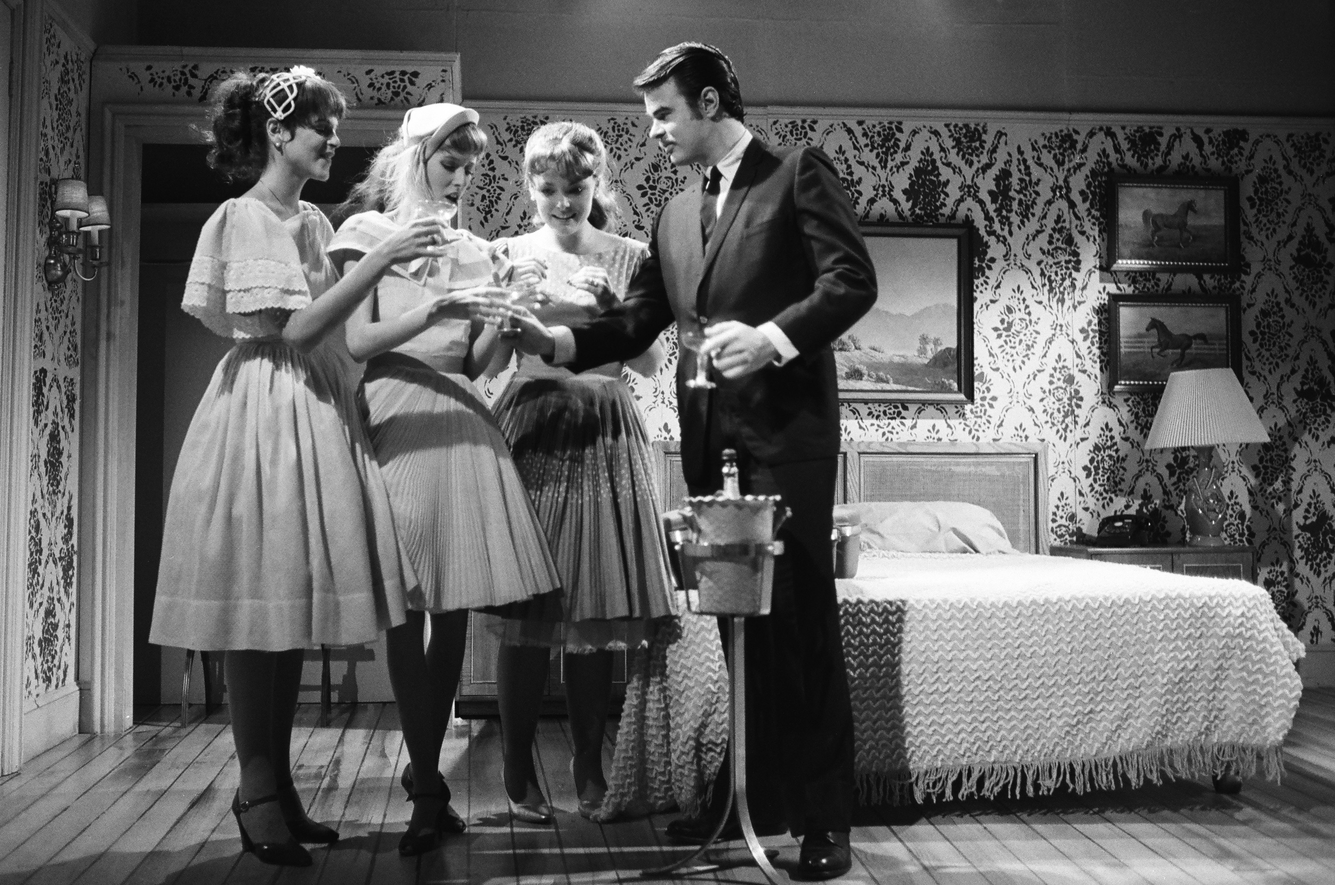16: (523, 147, 603, 243)
18: (279, 87, 349, 191)
20: (413, 127, 488, 226)
25: (635, 64, 709, 178)
Coat: (566, 136, 882, 466)
Dress: (148, 184, 421, 652), (327, 209, 570, 620), (485, 228, 685, 660)
EarRing: (592, 191, 601, 200), (274, 141, 282, 149), (529, 196, 538, 203)
Female: (523, 147, 603, 243), (413, 127, 488, 226), (279, 87, 349, 191)
Hair Band: (263, 63, 320, 121)
Hat: (393, 104, 481, 173)
Male: (635, 64, 709, 178)
Necklace: (257, 174, 302, 217)
Pants: (687, 461, 862, 841)
Ring: (588, 277, 599, 289)
Shoes: (228, 784, 315, 873), (394, 761, 469, 860), (669, 808, 789, 845), (497, 756, 556, 829), (281, 780, 344, 842), (793, 820, 857, 881), (568, 753, 616, 824)
Tie: (700, 164, 724, 253)
